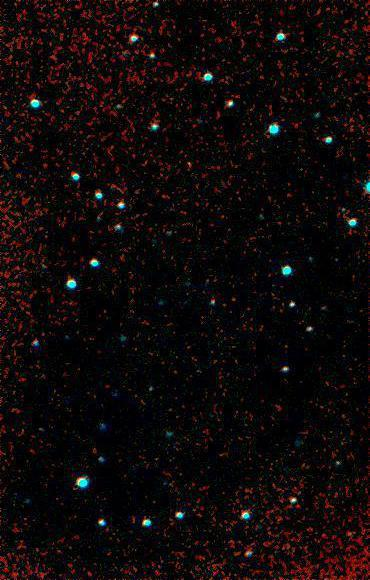star: (170, 150, 200, 180)
